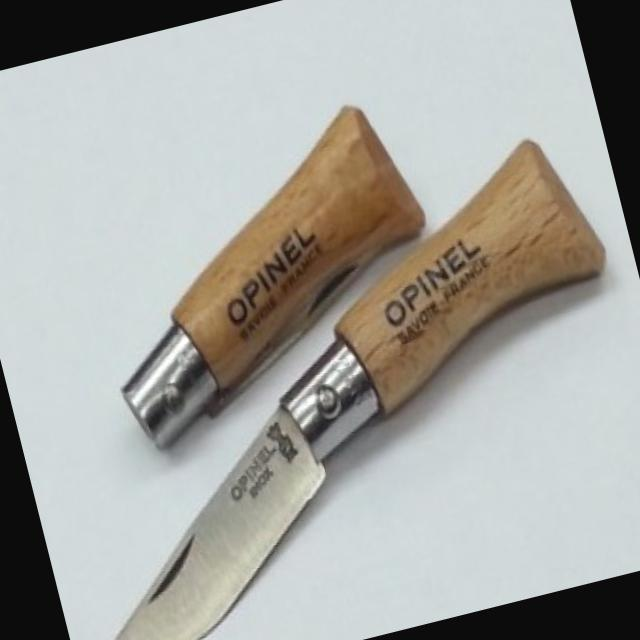knife: (42, 382, 365, 639)
